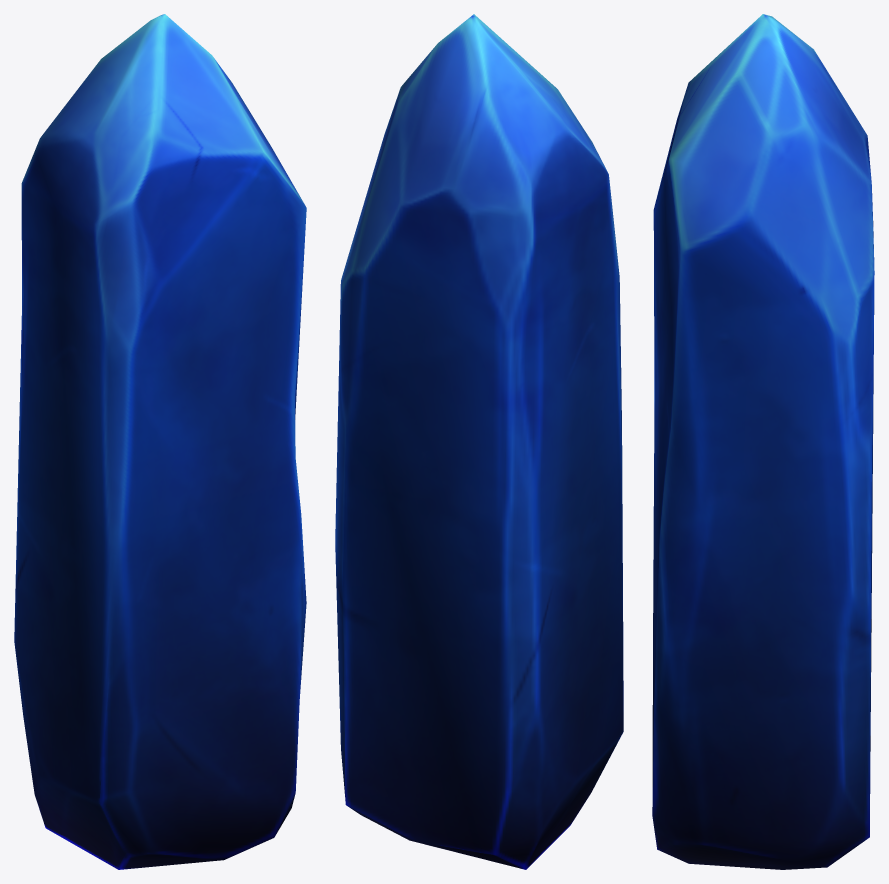
Rendered from SM_Gem_Sapphire_003.fbx.
The picture shows the model from 3 angles, left to right: view 1: azimuth 30°, elevation 25°; view 2: azimuth 150°, elevation 25°; view 3: azimuth 270°, elevation 25°; orthographic projection.
Parts seen in each view (by area): view 1: SM_Gem_Sapphire_003; view 2: SM_Gem_Sapphire_003; view 3: SM_Gem_Sapphire_003.
Boxes of the visible parts, box(x1,y1,x2,y2) form: SM_Gem_Sapphire_003: box(14, 14, 306, 869); SM_Gem_Sapphire_003: box(335, 14, 623, 869); SM_Gem_Sapphire_003: box(652, 14, 874, 869).
Size of the model in its own units: 16.37 by 61.05 by 14.83.
